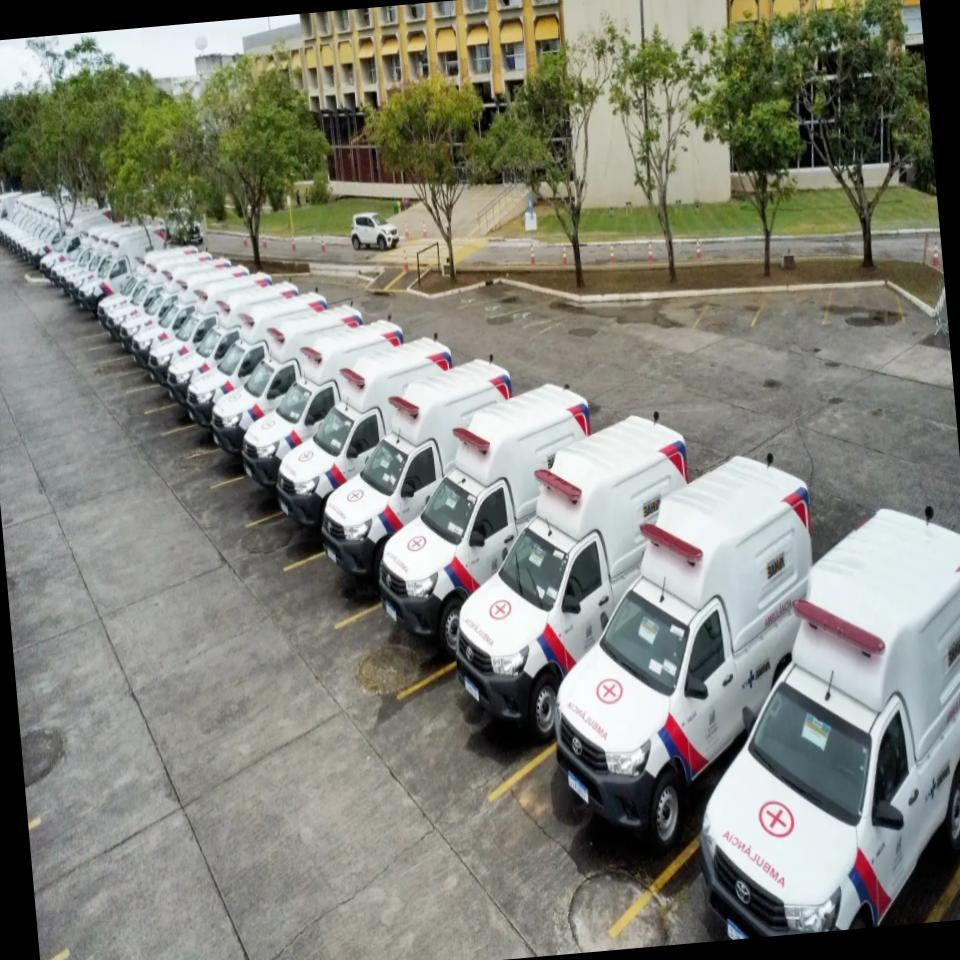bombeiro: (672, 502, 960, 942), (530, 449, 836, 852), (439, 409, 708, 749), (364, 379, 610, 664), (310, 356, 528, 596), (263, 334, 467, 538)
